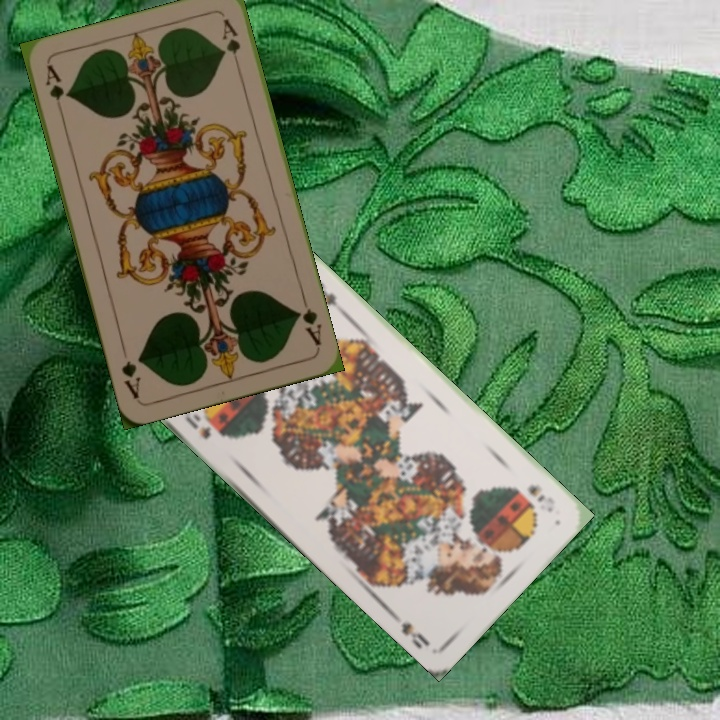GA: (291, 292, 324, 348), (41, 60, 67, 119)
SO: (180, 409, 226, 442), (523, 480, 556, 515)
